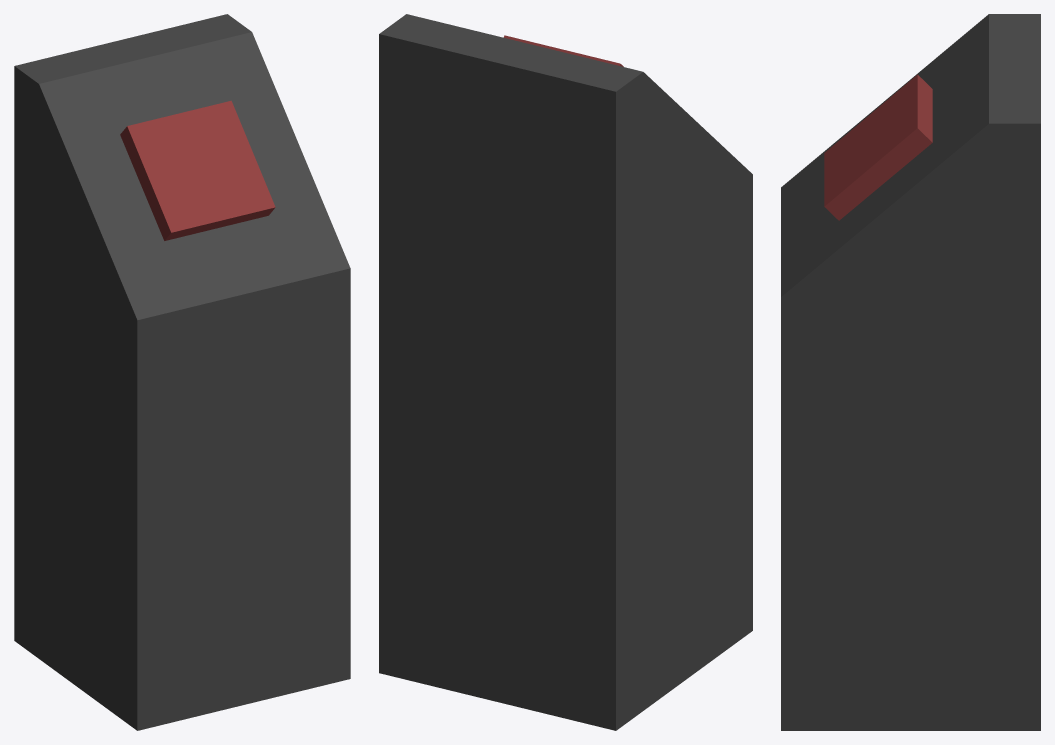
Rendered from button.fbx.
3 renders of one model, left to right at view 1: azimuth 30°, elevation 25°; view 2: azimuth 150°, elevation 25°; view 3: azimuth 270°, elevation 25°, orthographic. The views are drawn at different scales.
Visible parts, largest first — view 1: button; view 2: button; view 3: button.
Part boxes in pixels (x1,y1,x2,y2): button: [14, 14, 350, 730]; button: [379, 14, 752, 730]; button: [781, 14, 1040, 730].
Size of the model in its own units: 54.31 by 140 by 54.31.
